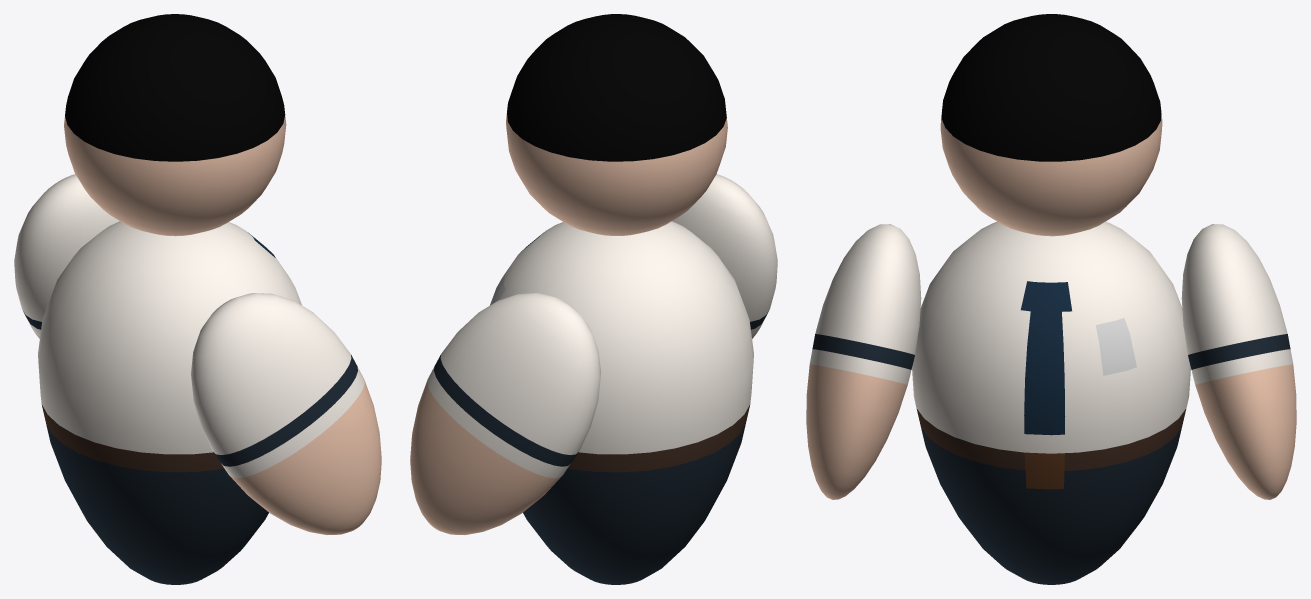
File: Student 1.fbx
The picture shows the model from 3 angles, left to right: view 1: azimuth 30°, elevation 25°; view 2: azimuth 150°, elevation 25°; view 3: azimuth 270°, elevation 25°; orthographic projection.
Parts seen in each view (by area): view 1: Sphere.001, Sphere, Sphere.002, Sphere.003; view 2: Sphere.001, Sphere, Sphere.003, Sphere.002; view 3: Sphere.001, Sphere, Sphere.002, Sphere.003.
Boxes of the visible parts, box(x1,y1,x2,y2) form: Sphere.001: box(38, 221, 301, 584); Sphere: box(64, 14, 286, 236); Sphere.002: box(191, 293, 381, 534); Sphere.003: box(14, 174, 119, 338); Sphere.001: box(490, 221, 753, 584); Sphere: box(506, 14, 727, 235); Sphere.003: box(410, 293, 600, 534); Sphere.002: box(672, 174, 777, 338); Sphere.001: box(912, 221, 1190, 584); Sphere: box(940, 14, 1162, 236); Sphere.002: box(806, 224, 921, 499); Sphere.003: box(1181, 224, 1296, 499).
Bounding box in the file's own units: 92.54 × 208 × 166.
